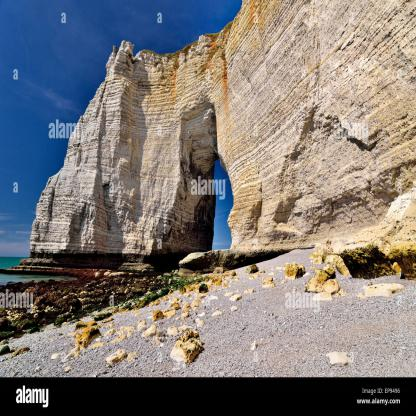Sedimentary_Chalk: (251, 51, 377, 245)
